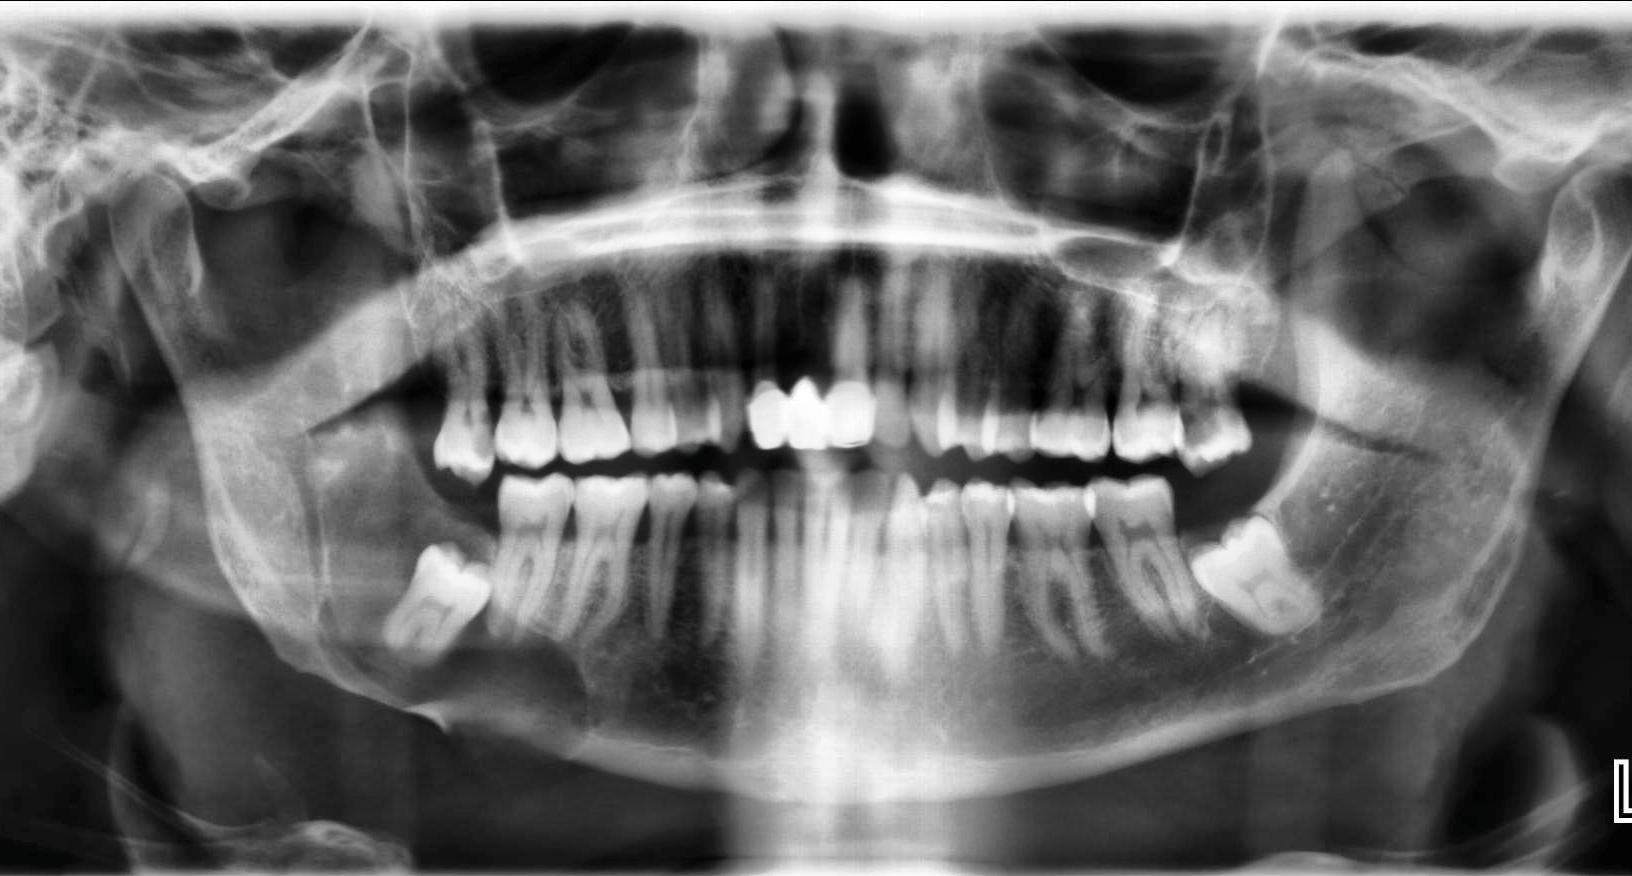keratokist: (322, 449, 588, 788)
